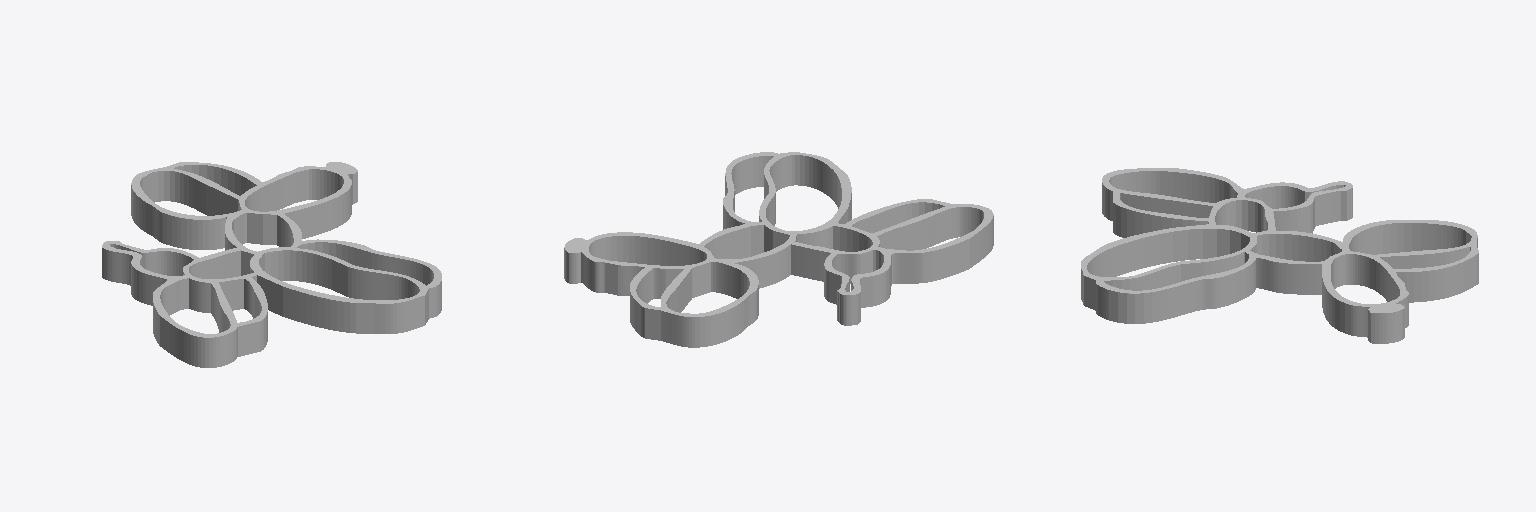
Rendered from NeonDog.obj.
3 renders of one model, left to right at view 1: azimuth 30°, elevation 25°; view 2: azimuth 150°, elevation 25°; view 3: azimuth 270°, elevation 25°, orthographic.
Parts seen in each view (by area): view 1: Preenchimento_de_Cor_2; view 2: Preenchimento_de_Cor_2; view 3: Preenchimento_de_Cor_2.
Boxes of the visible parts, box(x1,y1,x2,y2) form: Preenchimento_de_Cor_2: box(102, 162, 441, 367); Preenchimento_de_Cor_2: box(564, 152, 993, 347); Preenchimento_de_Cor_2: box(1081, 168, 1478, 343).
Size of the model in its own units: 1.36 by 0.133 by 1.58.